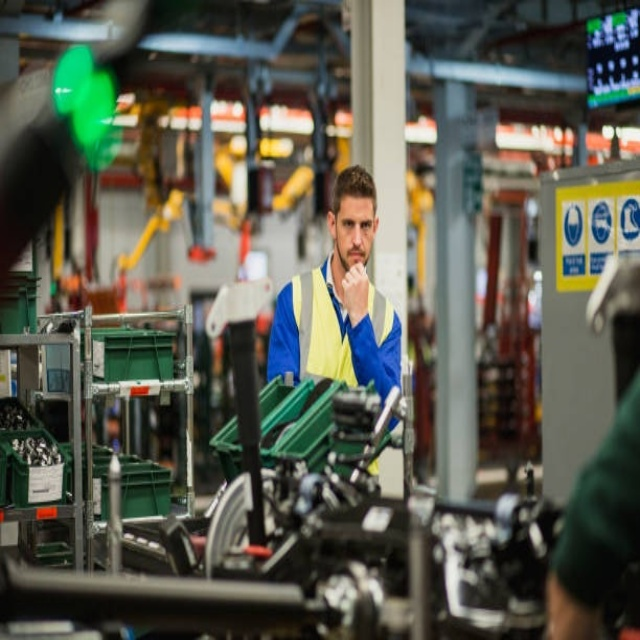Sin_gafas: (341, 209, 375, 237)
Sin_guantes: (341, 262, 372, 309)
Sin_mascara: (342, 243, 369, 262)
